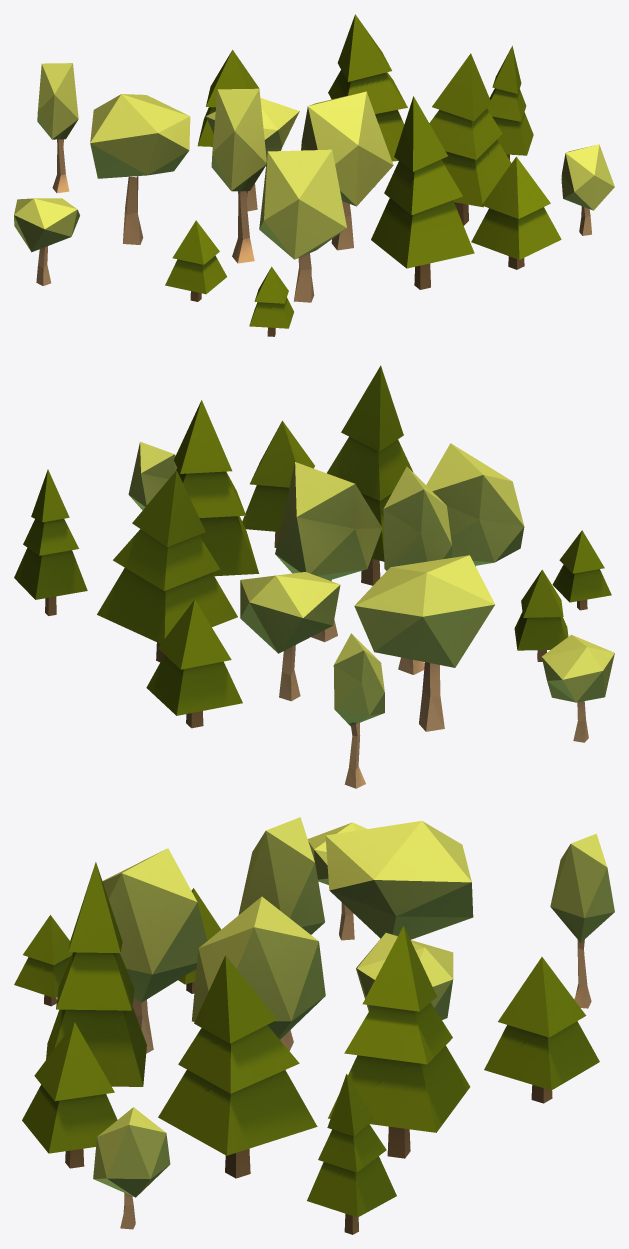
The model's file is forest1.glb.
3 views of the same model, one above another, from view 1: azimuth 30°, elevation 25°; view 2: azimuth 150°, elevation 25°; view 3: azimuth 270°, elevation 25° (orthographic). The views are drawn at different scales.
Visible parts, largest first — view 1: forest; view 2: forest; view 3: forest.
Part boxes in pixels (x1,y1,x2,y2): forest: [14, 14, 614, 336]; forest: [14, 365, 614, 788]; forest: [14, 817, 614, 1234].
Size of the model in its own units: 2.78 by 0.9865 by 2.15.
1 material, 1 textured.
